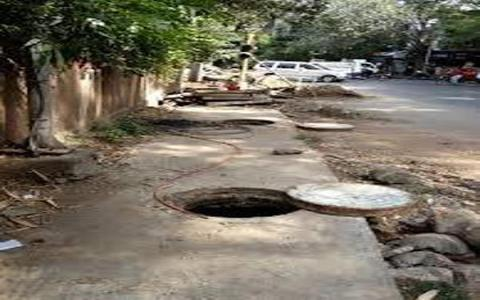open manhole: (164, 182, 303, 227)
